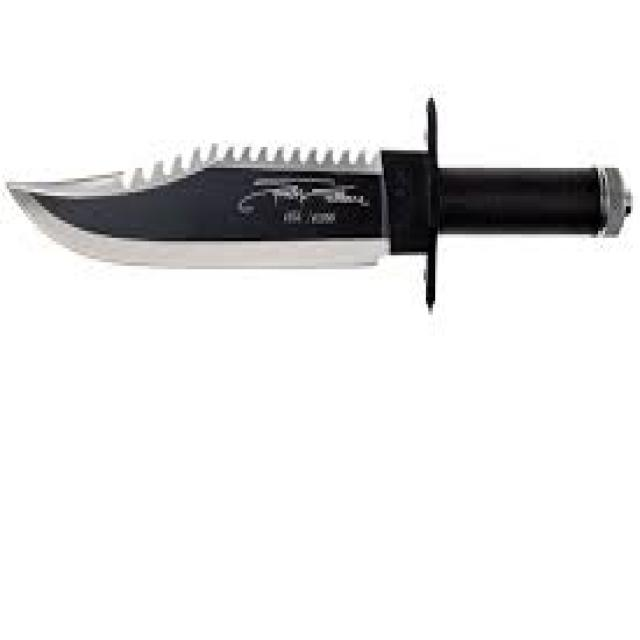knives: (2, 87, 633, 315)
